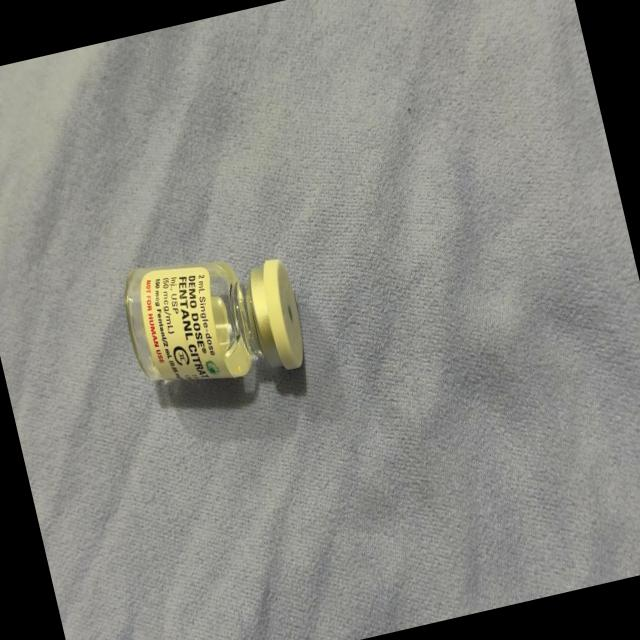fentanl_citrat: (119, 238, 308, 403)
